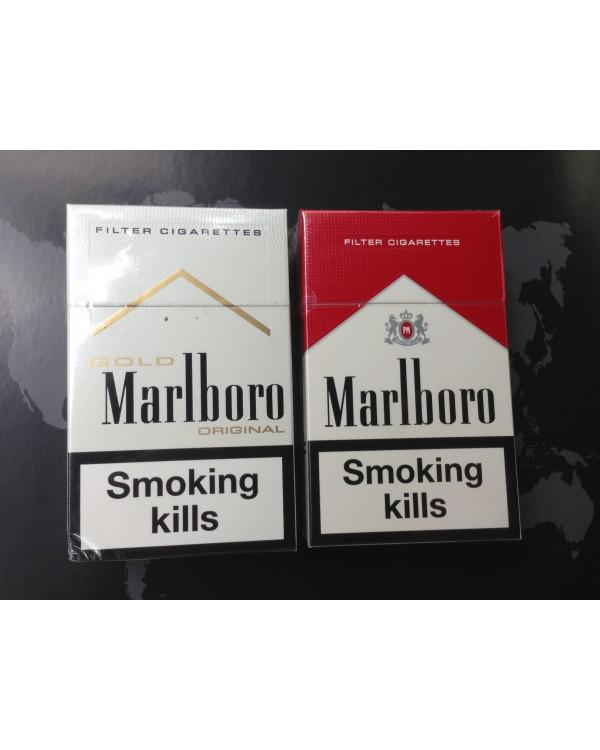marlboro_gold: (65, 206, 288, 556)
marlboro_red: (307, 217, 504, 542)
